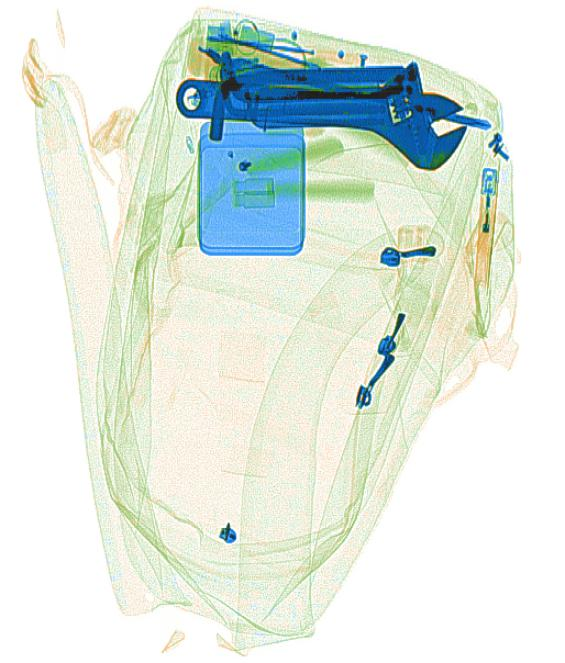lighter: (471, 166, 498, 296)
